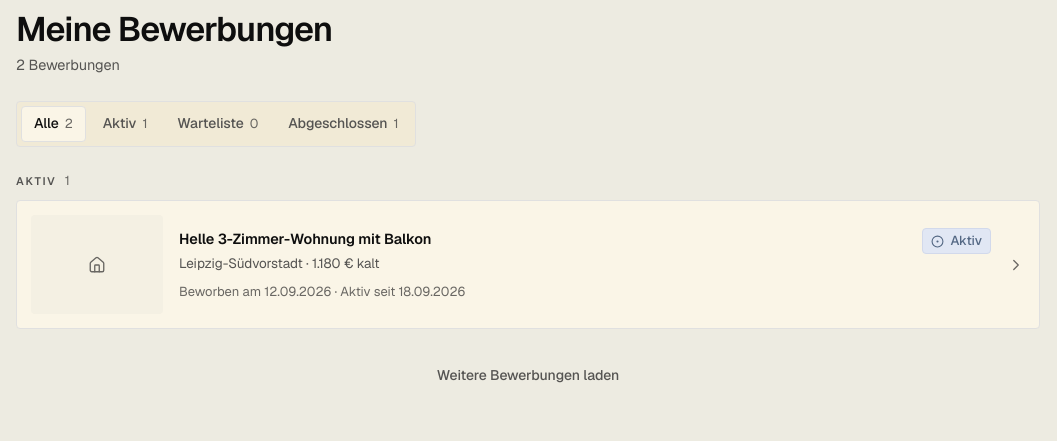
Test: ApplicationsOverview › keeps loaded cards when the next page fails
Click the button "Weitere Bewerbungen laden".
click(528, 375)  # box [419,353,637,397]
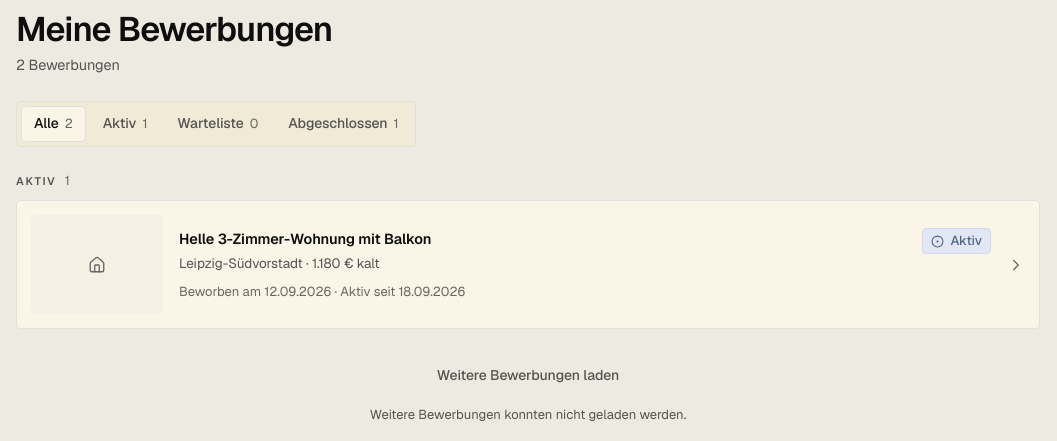
Check: the number of links is 1, box [16,200,1040,329]
Check: the text "Weitere Bewerbungen konnten nicht geladen werden." is shown, box [370,405,686,425]
